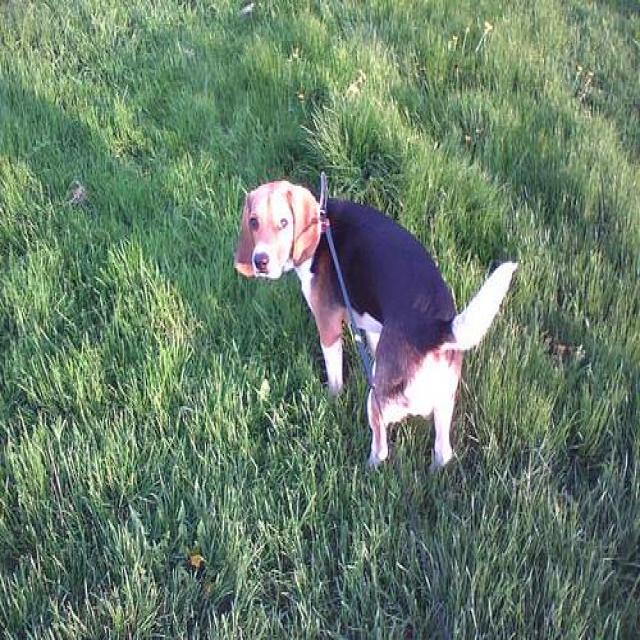beagle: (234, 179, 517, 471)
